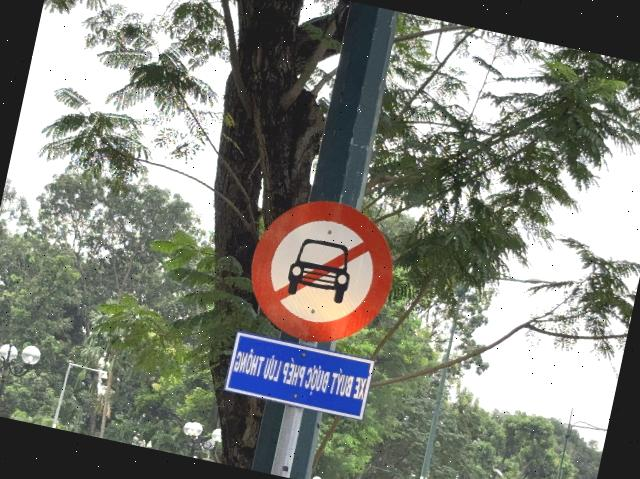cam-o-to: (238, 188, 404, 356)
